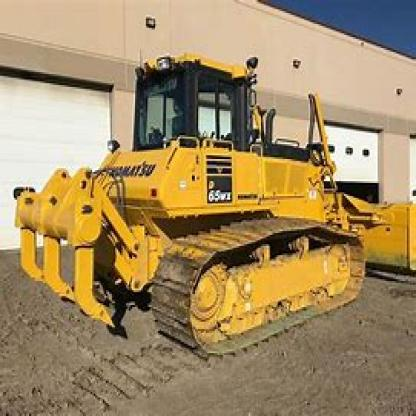bull_dozer/loader/grader: (14, 34, 414, 362)
